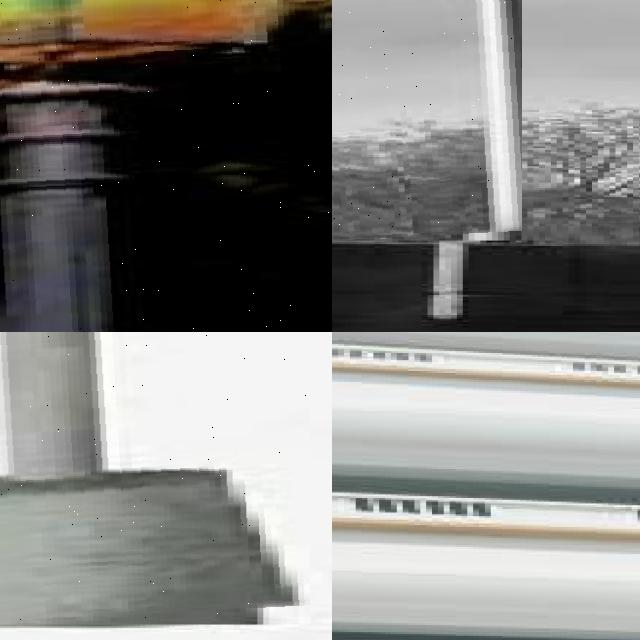street light: (0, 0, 332, 332), (0, 332, 310, 624), (332, 0, 521, 240)
